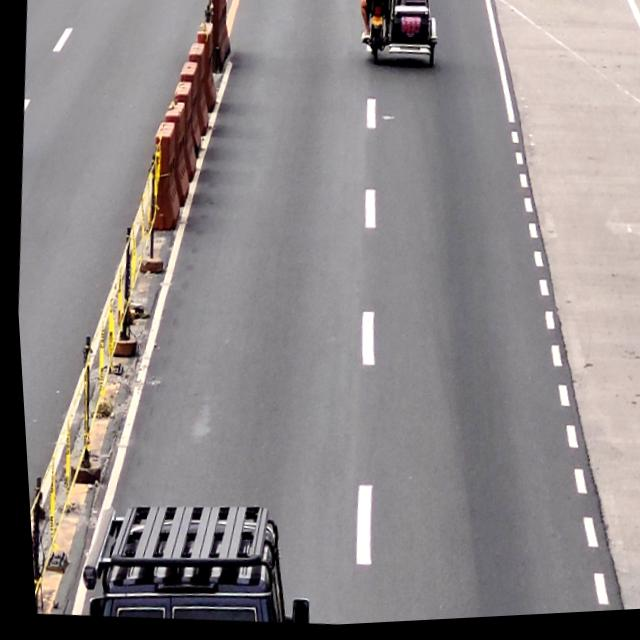License-Plate: (369, 19, 384, 30)
Tricycle: (355, 0, 442, 73)
